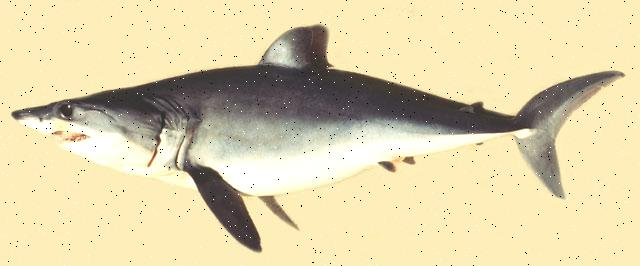Mulut: (29, 110, 113, 170)
Sirip Anal: (471, 131, 494, 155)
Sirip Dada: (174, 148, 306, 266)
Sirip Ekor: (510, 65, 632, 205)
Sirip Perut: (368, 145, 426, 187)
Sirip Punggung: (246, 16, 352, 82)
